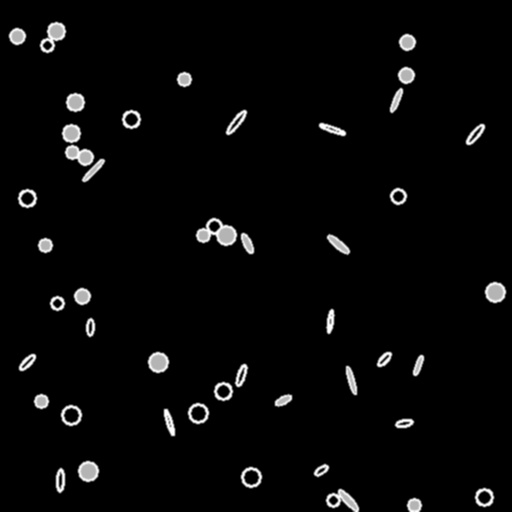pseudomonas: (336, 488, 360, 512), (225, 109, 247, 135), (326, 233, 350, 255), (82, 158, 104, 182), (465, 122, 485, 146), (319, 122, 345, 136), (345, 365, 357, 395), (389, 88, 403, 112), (18, 353, 36, 371), (163, 409, 175, 435), (240, 232, 254, 254), (235, 364, 247, 386), (376, 351, 392, 367), (274, 393, 292, 407), (412, 355, 424, 375), (313, 463, 329, 477), (326, 309, 334, 333), (395, 418, 413, 428), (57, 468, 63, 492), (86, 319, 94, 335)
synechocystis: (149, 353, 167, 371), (62, 406, 80, 424), (242, 468, 260, 486), (217, 226, 235, 244), (79, 462, 97, 480), (189, 404, 207, 422), (486, 283, 504, 301), (48, 23, 64, 39), (63, 125, 79, 141), (476, 489, 492, 505), (215, 383, 231, 399), (123, 111, 139, 127), (67, 94, 83, 110), (19, 190, 35, 206), (207, 219, 221, 233), (399, 68, 413, 82), (400, 35, 414, 49), (391, 189, 405, 203), (78, 150, 92, 164), (10, 29, 24, 43), (75, 289, 89, 303), (327, 494, 339, 506), (35, 395, 47, 407), (41, 39, 53, 51), (66, 146, 78, 158), (178, 73, 190, 85), (51, 297, 63, 309), (197, 229, 209, 241), (39, 239, 51, 251), (408, 499, 420, 511)
